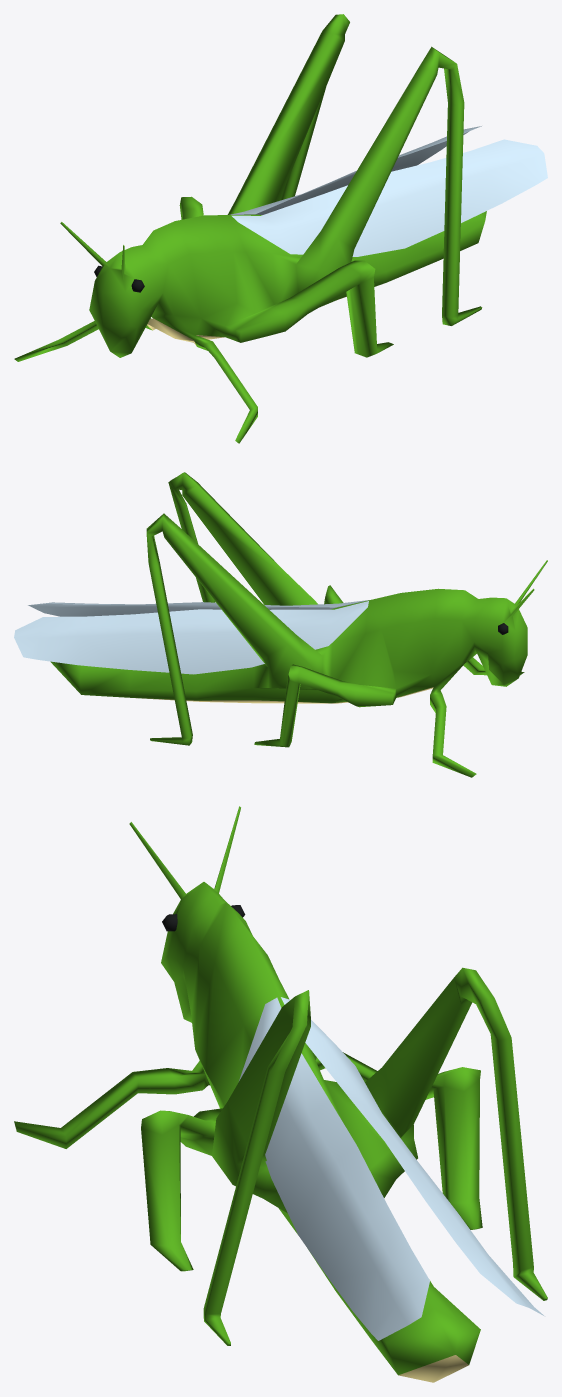
File: NOVELO_GRASSHOPPER.obj
3 renders of one model, top to bottom at view 1: azimuth 30°, elevation 25°; view 2: azimuth 150°, elevation 25°; view 3: azimuth 270°, elevation 25°, orthographic. The views are drawn at different scales.
Visible parts, largest first — view 1: Body, Wings; view 2: Body, Wings; view 3: Body, Wings.
Boxes of the visible parts, x1,y1,x2,y2 form: Body: (14, 14, 486, 443); Wings: (229, 126, 547, 256); Body: (50, 472, 547, 777); Wings: (14, 600, 369, 674); Body: (14, 806, 547, 1382); Wings: (239, 997, 545, 1340).
Size of the model in its own units: 533 by 233 by 326.
